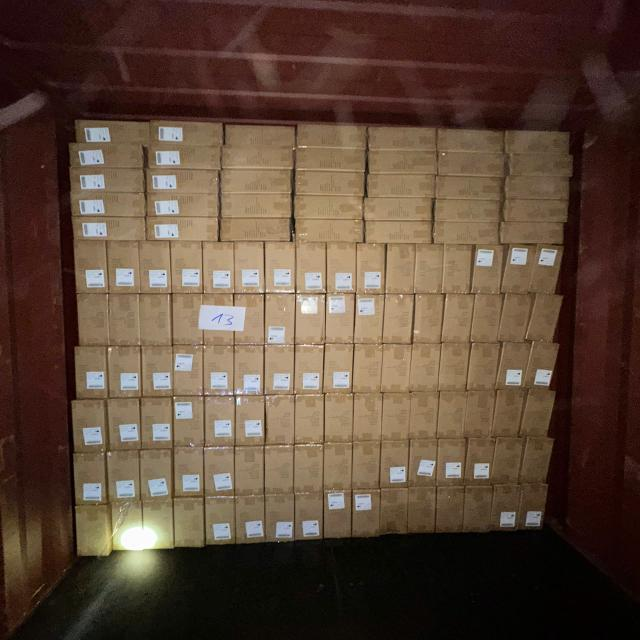Carton: (68, 144, 146, 171), (503, 128, 578, 156), (74, 503, 112, 558), (69, 193, 146, 220), (69, 168, 146, 195), (296, 123, 367, 152), (218, 168, 294, 195), (149, 144, 225, 171), (72, 120, 150, 146), (218, 193, 293, 220), (146, 168, 220, 195), (432, 218, 503, 246), (218, 218, 293, 244), (70, 400, 106, 454), (296, 148, 368, 175), (146, 218, 220, 244), (148, 122, 222, 148), (502, 173, 573, 200), (74, 240, 108, 296), (527, 294, 565, 344), (438, 128, 508, 155), (364, 172, 434, 199), (434, 152, 504, 179), (432, 174, 502, 201), (366, 126, 436, 153), (149, 194, 224, 219), (295, 171, 367, 197), (223, 145, 295, 171), (75, 454, 110, 507), (72, 218, 146, 243), (364, 148, 435, 174), (502, 219, 570, 246), (506, 151, 574, 178), (296, 220, 366, 246), (221, 123, 296, 147), (503, 198, 572, 224), (77, 348, 110, 402), (109, 242, 142, 296), (110, 399, 143, 453), (519, 436, 556, 484), (140, 452, 174, 504), (530, 245, 564, 297), (521, 390, 557, 439), (140, 398, 173, 451), (110, 348, 143, 400), (110, 454, 143, 506), (113, 500, 146, 552), (140, 242, 171, 297), (293, 196, 364, 220), (432, 198, 500, 223), (525, 340, 559, 390), (265, 243, 297, 296), (171, 243, 203, 296), (202, 243, 234, 296), (141, 498, 173, 551), (141, 296, 174, 347), (362, 198, 432, 222), (363, 220, 433, 244), (496, 341, 530, 390), (110, 296, 142, 348), (172, 396, 204, 448), (472, 246, 505, 296), (501, 246, 534, 296), (297, 242, 328, 295), (175, 501, 207, 552), (141, 346, 173, 397), (236, 243, 266, 297), (80, 294, 111, 346), (172, 295, 203, 347), (235, 295, 266, 347), (204, 295, 235, 347), (204, 346, 236, 396), (499, 294, 531, 344), (236, 397, 267, 448), (296, 295, 327, 346), (204, 397, 235, 448), (203, 446, 234, 497), (467, 342, 499, 391), (492, 389, 524, 438), (518, 485, 550, 534), (385, 245, 415, 297), (326, 244, 356, 296), (266, 294, 296, 346), (174, 446, 204, 498), (443, 294, 474, 344), (383, 296, 414, 346), (265, 345, 296, 395), (204, 497, 235, 547), (492, 437, 524, 485), (414, 294, 444, 345), (265, 446, 296, 495), (356, 245, 385, 297), (411, 342, 441, 392), (174, 346, 204, 396), (235, 446, 265, 496), (382, 343, 412, 393), (352, 344, 382, 394), (236, 345, 265, 396), (323, 343, 352, 394), (236, 497, 266, 546), (296, 444, 326, 493), (266, 496, 296, 545), (443, 247, 473, 296), (440, 343, 470, 392), (473, 295, 503, 344), (462, 485, 492, 534), (354, 295, 383, 345), (296, 344, 325, 394), (267, 396, 296, 446), (325, 295, 354, 345), (324, 394, 353, 444), (415, 246, 444, 296), (439, 439, 468, 489), (296, 395, 325, 445), (381, 440, 410, 489), (353, 394, 382, 443), (465, 391, 494, 440), (464, 438, 493, 487), (323, 490, 351, 540), (437, 488, 466, 536), (323, 442, 352, 490), (351, 492, 380, 540), (408, 486, 437, 534), (383, 393, 411, 442), (411, 392, 439, 441), (352, 441, 380, 490), (296, 494, 324, 543), (410, 439, 438, 488), (440, 392, 468, 441), (492, 486, 520, 535), (381, 490, 409, 538)
